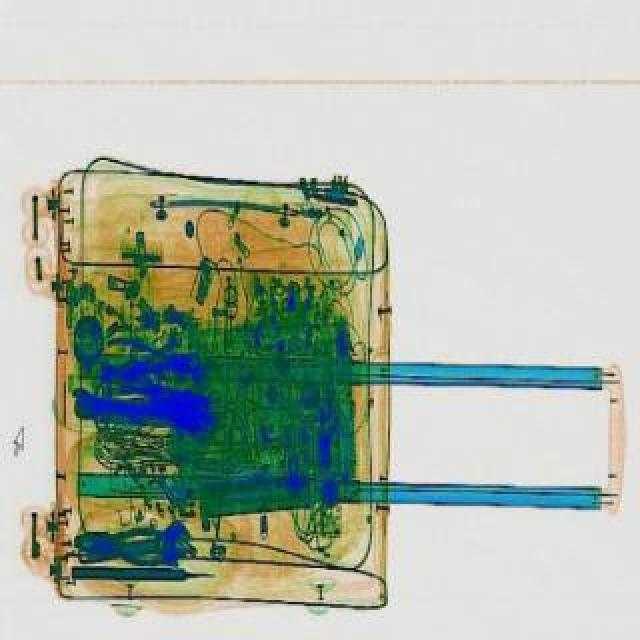scissors: (74, 512, 198, 576)
wrench: (76, 522, 180, 562), (102, 334, 194, 378)
